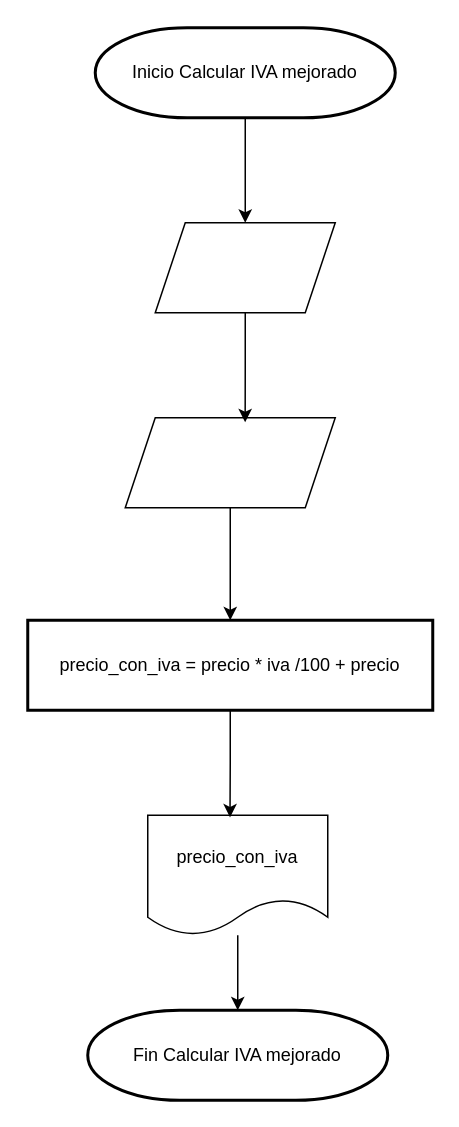
Image size: 459x1127. Some labels were removed from this diagram. Each missing label, with the box of its shape:
iva (21 ó 10.5): (124, 416, 335, 508)
precio: (154, 221, 335, 313)
